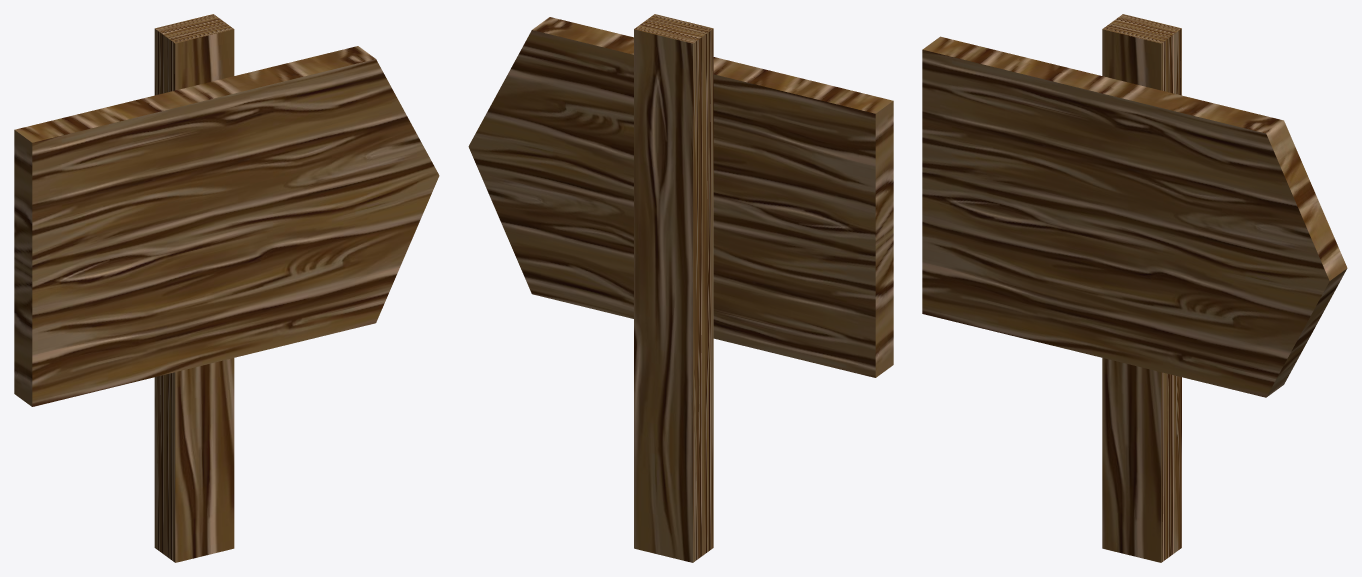
The model's file is ArrowSign.FBX.
3 renders of one model, left to right at view 1: azimuth 30°, elevation 25°; view 2: azimuth 150°, elevation 25°; view 3: azimuth 330°, elevation 25°, orthographic.
Visible parts, largest first — view 1: content, pole; view 2: content, pole; view 3: content, pole.
Boxes of the visible parts, x1,y1,x2,y2 form: content: (14, 46, 439, 406); pole: (154, 14, 234, 562); content: (468, 17, 893, 377); pole: (634, 14, 713, 562); content: (922, 36, 1347, 397); pole: (1102, 14, 1181, 562).
Bounding box in the file's own units: 80.29 × 97.84 × 13.38.
